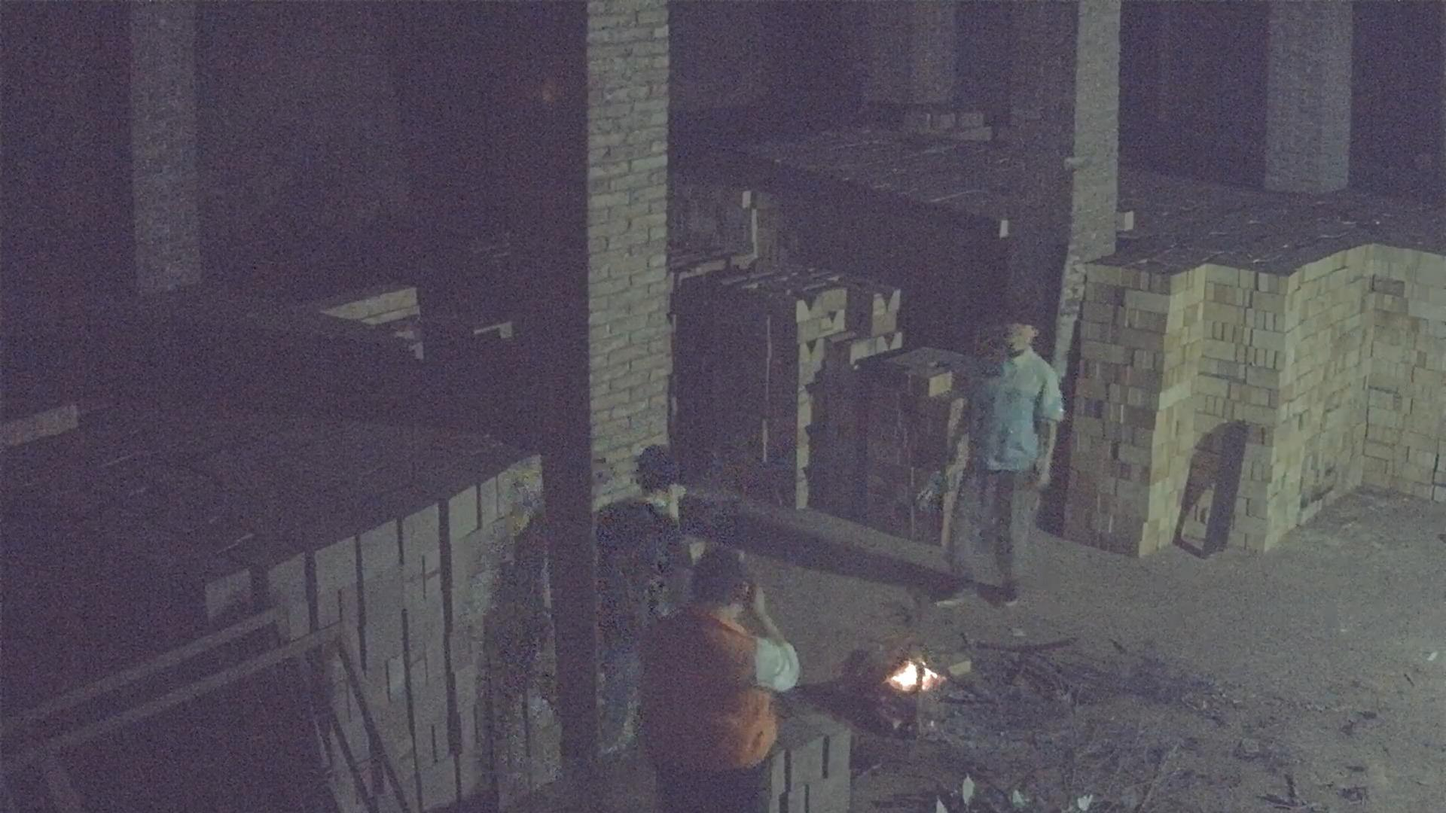fire: (885, 659, 945, 695)
